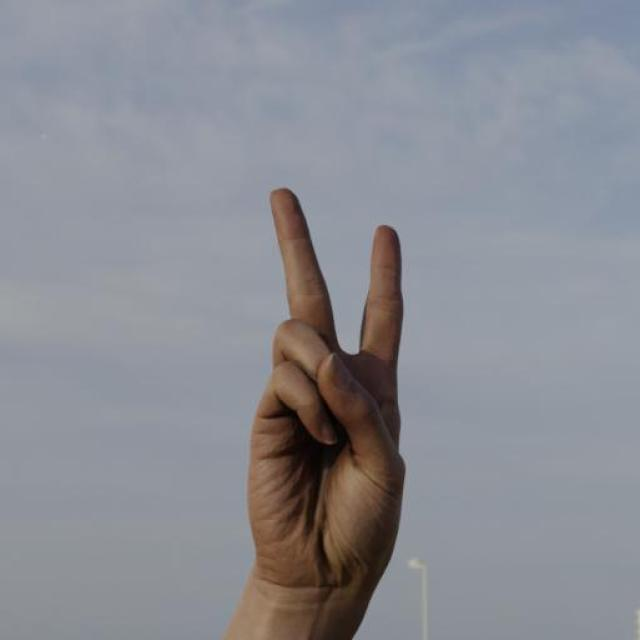V: (239, 182, 410, 592)
